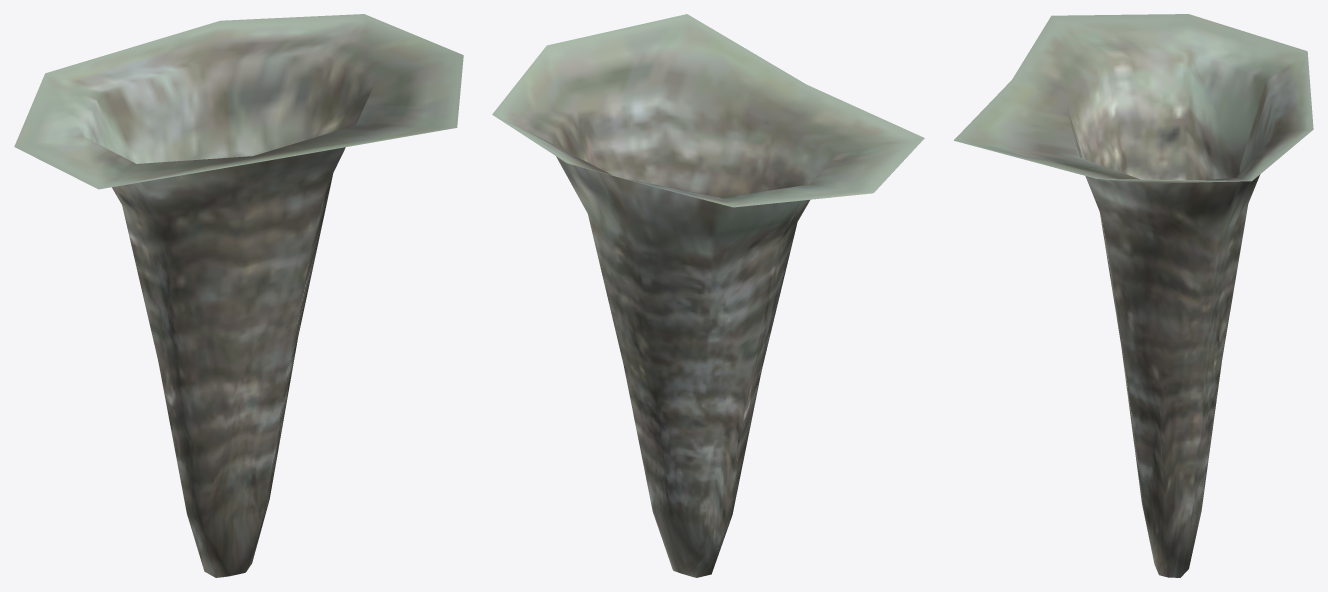
Rendered from TROLLHOLE02_PS-MAINSTALAG68.fbx.
3 views of the same model, side by side, from view 1: azimuth 30°, elevation 25°; view 2: azimuth 150°, elevation 25°; view 3: azimuth 270°, elevation 25° (orthographic). The views are drawn at different scales.
Parts seen in each view (by area): view 1: TROLLHOLE02_PS-MAINSTALAG68; view 2: TROLLHOLE02_PS-MAINSTALAG68; view 3: TROLLHOLE02_PS-MAINSTALAG68.
Part boxes in pixels (x1,y1,x2,y2): TROLLHOLE02_PS-MAINSTALAG68: [14, 14, 463, 577]; TROLLHOLE02_PS-MAINSTALAG68: [492, 14, 924, 577]; TROLLHOLE02_PS-MAINSTALAG68: [954, 14, 1313, 577].
Size of the model in its own units: 28369 by 33800 by 22455.
1 material, 1 textured.
